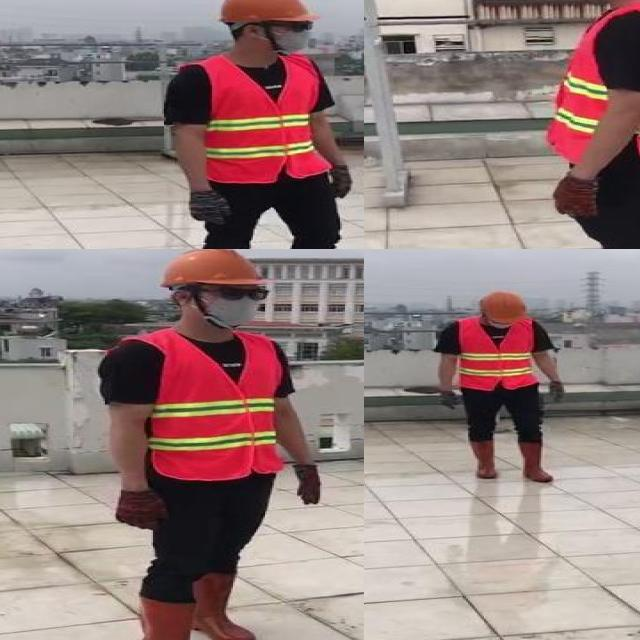boots: (192, 573, 258, 640), (135, 599, 236, 640), (516, 439, 552, 482), (468, 438, 498, 481)
face_mask: (200, 282, 271, 328), (274, 18, 317, 54)
glasses: (213, 282, 270, 304), (278, 20, 318, 36)
hand_glove: (112, 491, 173, 530), (555, 175, 601, 217), (292, 465, 327, 507), (187, 191, 230, 223), (328, 166, 352, 197), (436, 387, 457, 411), (544, 382, 564, 405)
head_helmet: (159, 249, 265, 291), (215, 0, 311, 24), (478, 290, 528, 325)
person: (94, 249, 327, 640), (156, 0, 364, 249), (430, 286, 574, 488), (528, 0, 640, 249)
vest: (146, 328, 286, 479), (196, 55, 328, 182), (550, 2, 640, 167), (454, 318, 539, 390)
